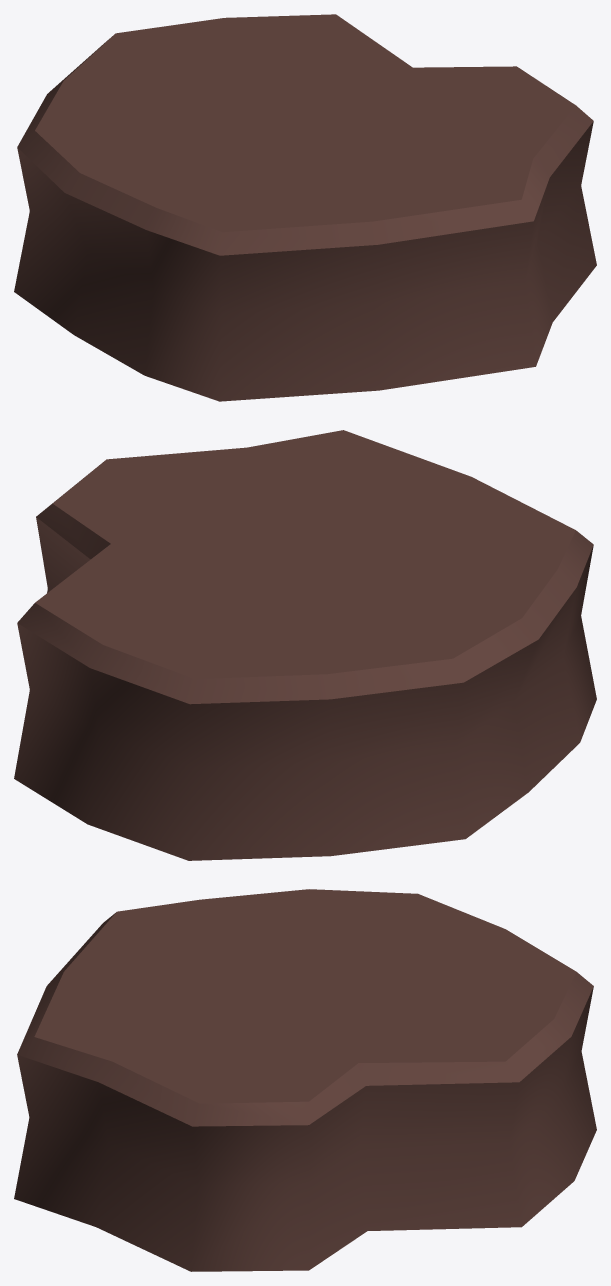
Rendered from rock1_01.fbx.
3 renders of one model, top to bottom at view 1: azimuth 30°, elevation 25°; view 2: azimuth 150°, elevation 25°; view 3: azimuth 270°, elevation 25°, orthographic. The views are drawn at different scales.
Visible parts, largest first — view 1: rock1_01; view 2: rock1_01; view 3: rock1_01.
Part boxes in pixels (x1,y1,x2,y2): rock1_01: [14, 14, 596, 401]; rock1_01: [14, 430, 596, 860]; rock1_01: [14, 889, 596, 1271].
Size of the model in its own units: 2.91 by 0.9424 by 3.11.
